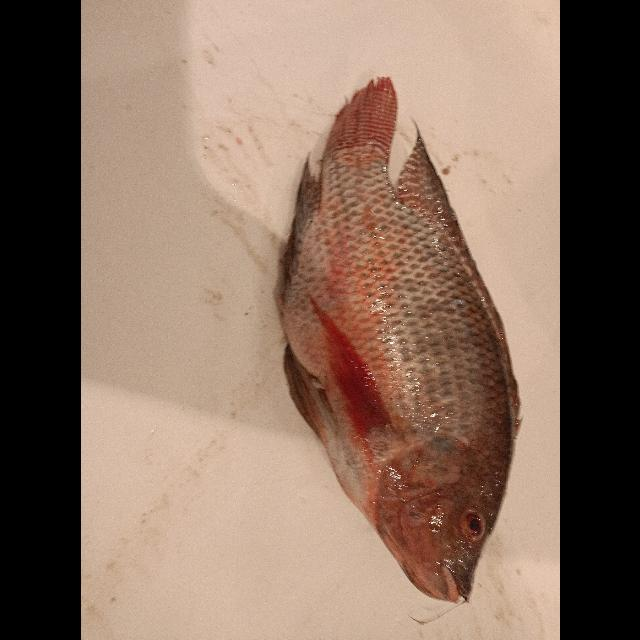Tilapia: (276, 74, 522, 606)
